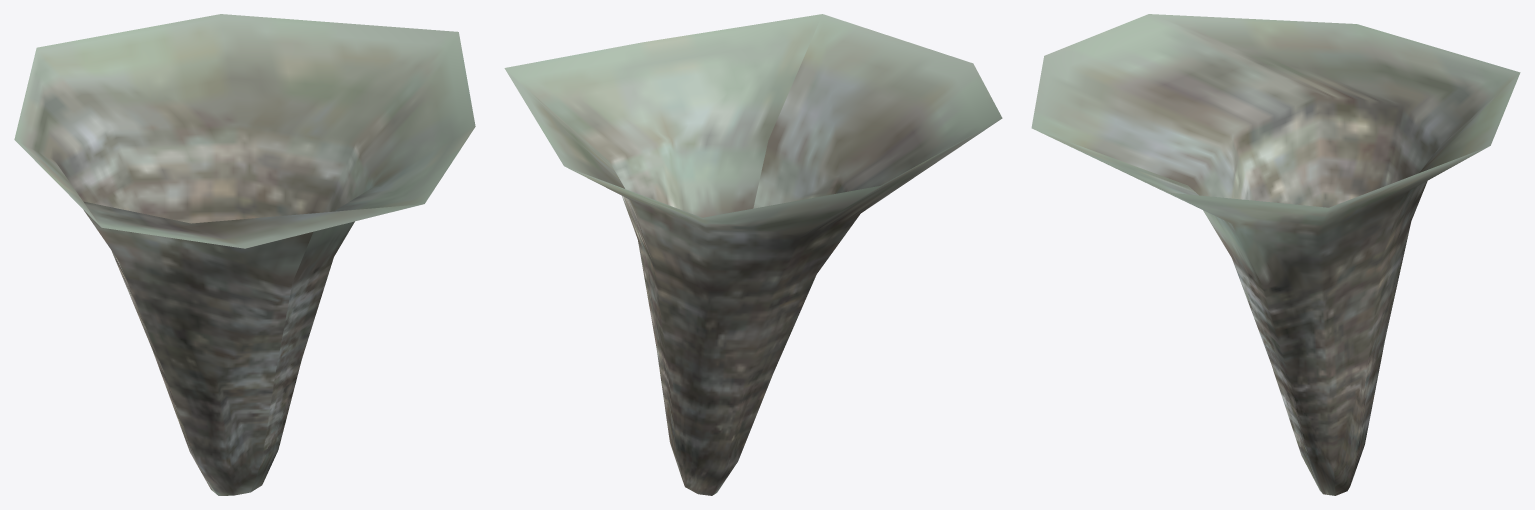
File: TROLLHOLE02_PS-SECRETSTALAG07.fbx
3 renders of one model, left to right at view 1: azimuth 30°, elevation 25°; view 2: azimuth 150°, elevation 25°; view 3: azimuth 270°, elevation 25°, orthographic. The views are drawn at different scales.
Parts seen in each view (by area): view 1: TROLLHOLE02_PS-SECRETSTALAG07; view 2: TROLLHOLE02_PS-SECRETSTALAG07; view 3: TROLLHOLE02_PS-SECRETSTALAG07.
Boxes of the visible parts, left/top/right/bottom form: TROLLHOLE02_PS-SECRETSTALAG07: left=14, top=14, right=475, bottom=495; TROLLHOLE02_PS-SECRETSTALAG07: left=504, top=14, right=1002, bottom=495; TROLLHOLE02_PS-SECRETSTALAG07: left=1031, top=14, right=1520, bottom=495.
Bounding box in the file's own units: 24084 × 20789 × 23951.
1 material, 1 textured.
